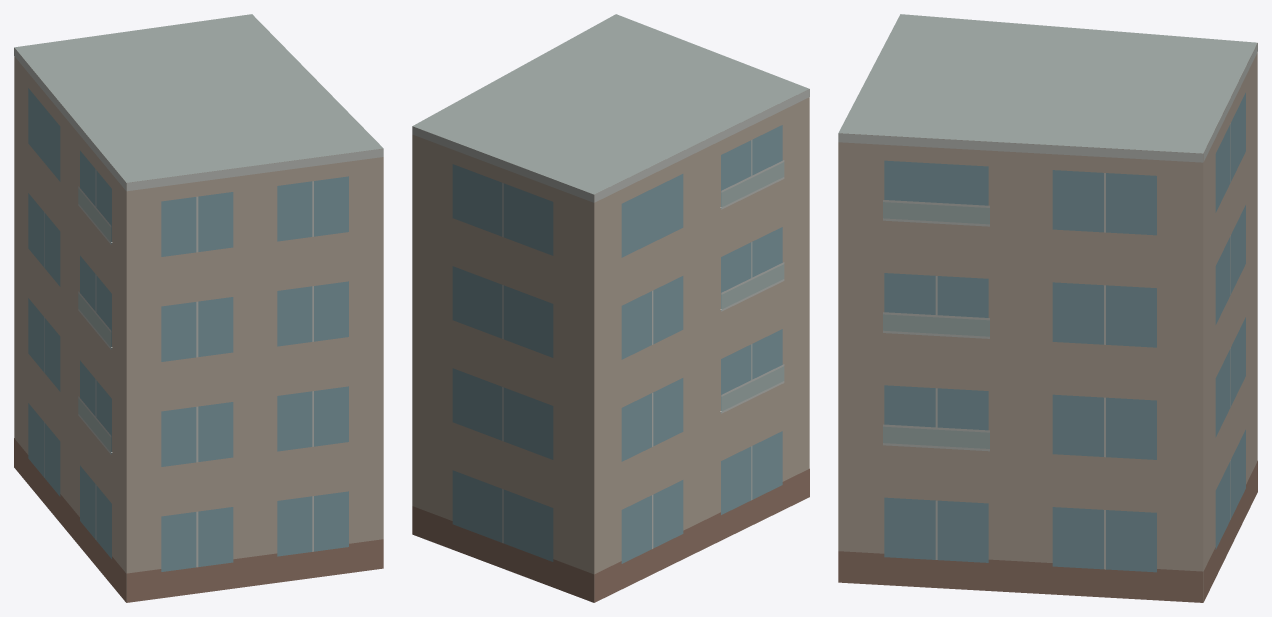
File: survey-upis-32756283.glb
The picture shows the model from 3 angles, left to right: view 1: azimuth 30°, elevation 25°; view 2: azimuth 150°, elevation 25°; view 3: azimuth 270°, elevation 25°; orthographic projection. The views are drawn at different scales.
Parts seen in each view (by area): view 1: survey-upis-32756283.tmp; view 2: survey-upis-32756283.tmp; view 3: survey-upis-32756283.tmp.
Part boxes in pixels (box(x1,y1,x2,y2)): survey-upis-32756283.tmp: box(14, 14, 383, 602); survey-upis-32756283.tmp: box(412, 14, 809, 602); survey-upis-32756283.tmp: box(838, 14, 1257, 602).
Bounding box in the file's own units: 8.07 × 12.1 × 10.25.
